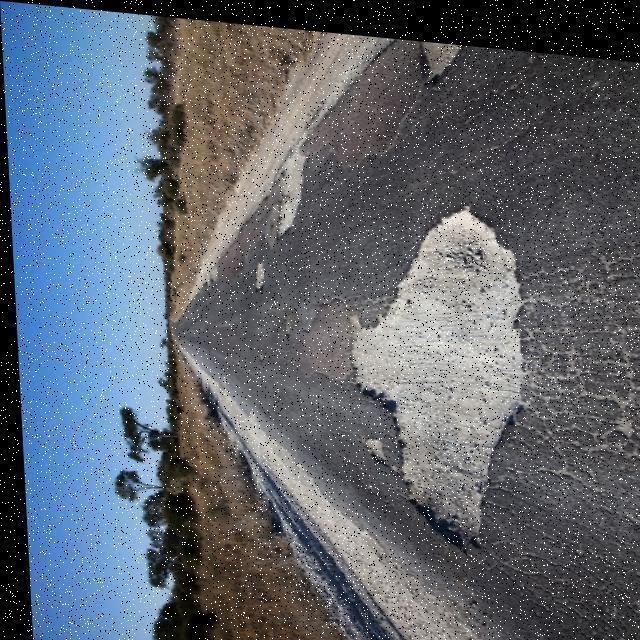Pothole: (352, 209, 522, 540), (269, 148, 306, 244), (422, 43, 461, 78)
